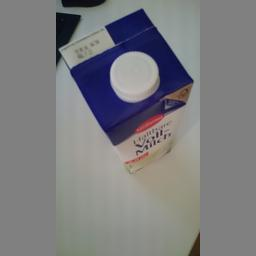milk: (55, 8, 200, 175)
